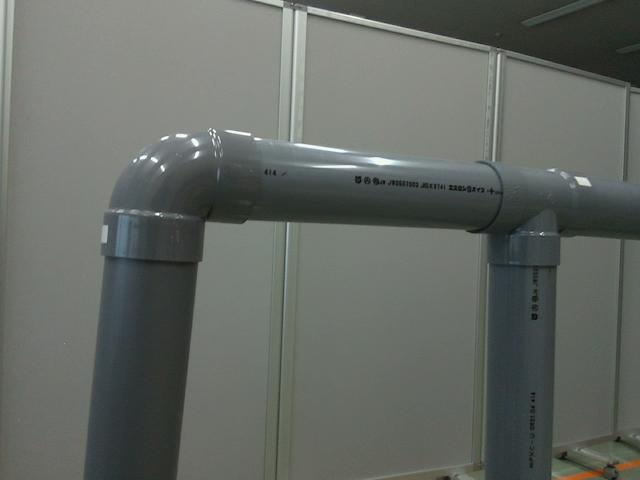bent: (100, 118, 262, 261)
junction: (465, 159, 596, 268)
